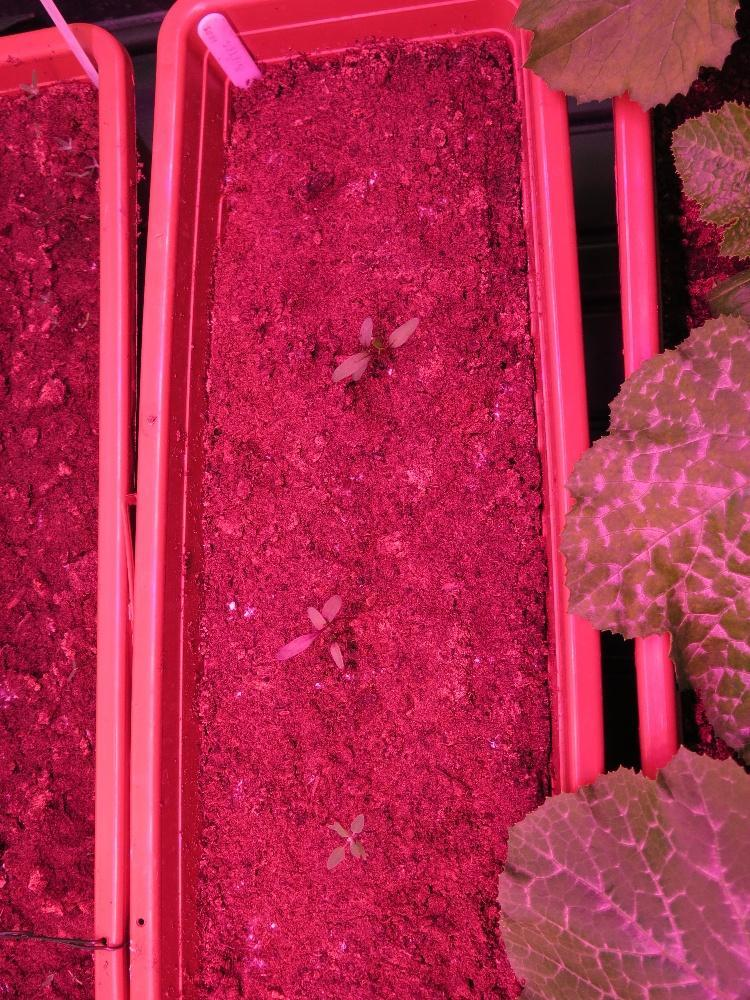weed: (324, 810, 367, 873)
